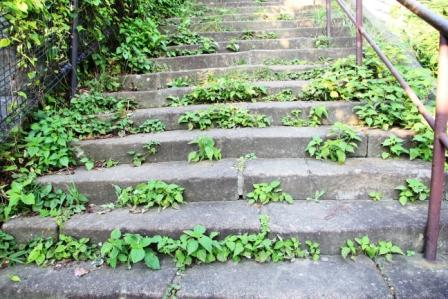overgrown grass: (74, 0, 184, 78), (101, 226, 319, 265), (24, 93, 123, 173), (305, 59, 408, 128), (0, 172, 87, 219), (0, 234, 98, 265), (175, 109, 278, 135), (383, 47, 435, 98), (119, 183, 191, 213), (310, 124, 365, 162), (180, 81, 267, 101), (225, 68, 328, 84), (335, 235, 406, 256), (383, 132, 430, 156), (256, 182, 300, 205), (128, 138, 160, 169), (397, 177, 433, 204), (286, 110, 338, 128), (187, 139, 219, 164), (118, 121, 171, 136), (163, 33, 217, 45), (159, 49, 221, 57), (237, 30, 277, 40)
